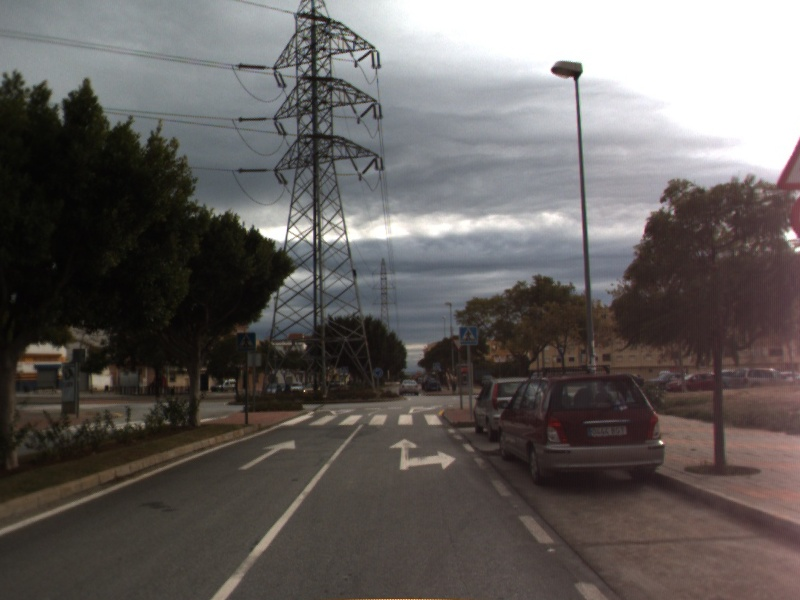STRAIGHT: (236, 438, 297, 472)
STRAIGHT_RIGHT: (387, 436, 458, 472)
